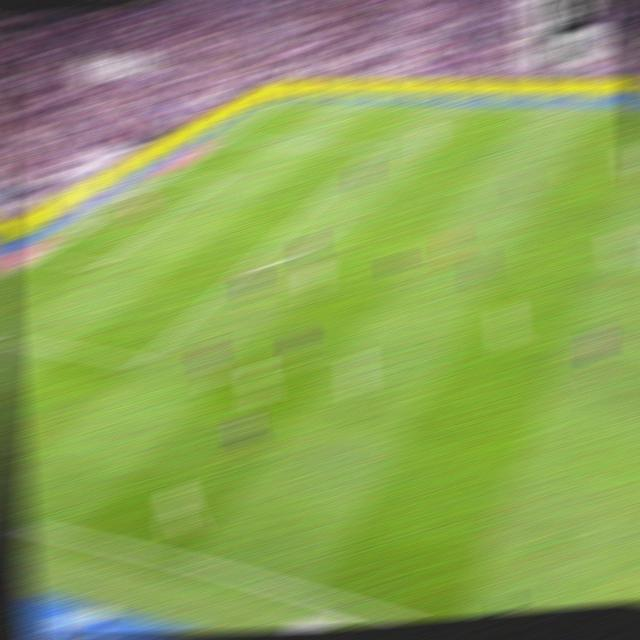bigarea_bottom_inner: (130, 351, 153, 373)
bigarea_top_inner: (365, 143, 384, 154)
bigarea_top_outter: (218, 132, 238, 141)
bottom_arc_area_intersection: (231, 263, 254, 276)
smallarea_top_inner: (209, 176, 228, 184)
top_arc_area_intersection: (312, 190, 332, 202)
